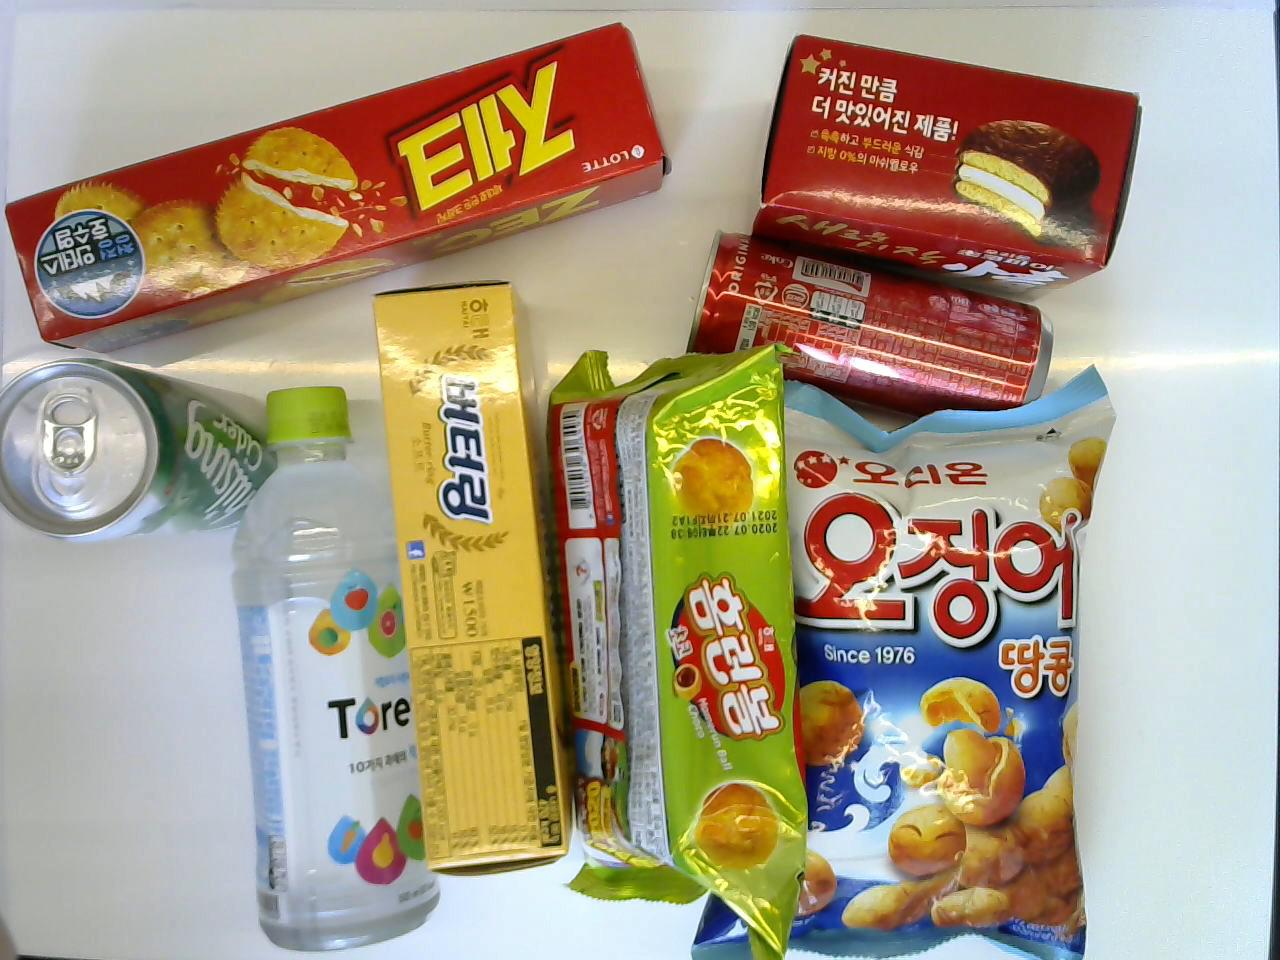buttering: (371, 279, 578, 879)
chocopie: (756, 29, 1147, 285)
cidar: (0, 357, 294, 546)
coke: (684, 225, 1055, 422)
homerunball: (548, 340, 808, 954)
squid_peanut: (686, 365, 1116, 958)
toreta: (225, 384, 440, 953)
zec: (0, 21, 674, 355)
